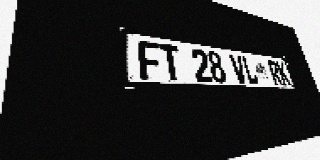2: (191, 48, 213, 82)
8: (206, 50, 227, 83)
F: (137, 40, 163, 80)
K: (275, 61, 291, 85)
L: (241, 56, 259, 84)
R: (267, 60, 283, 85)
T: (159, 43, 183, 81)
V: (229, 54, 248, 84)
